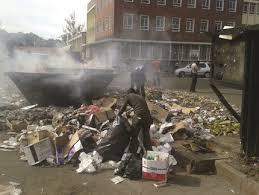smoke: (13, 50, 113, 70)
